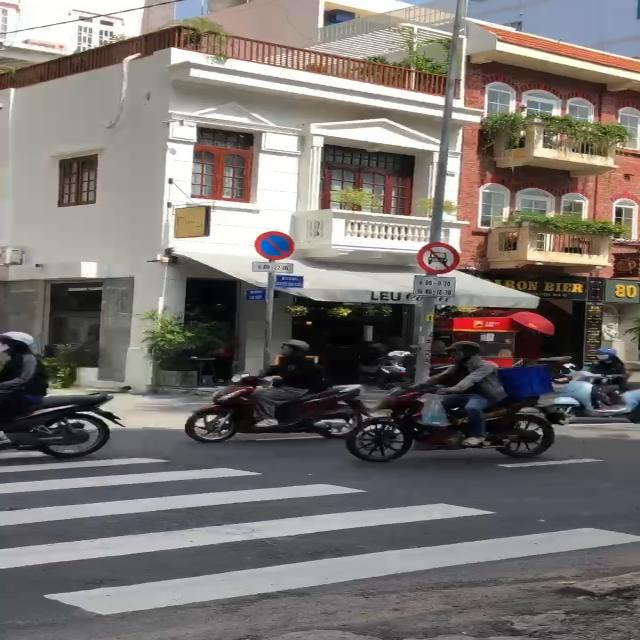Bien bao cam do xe: (249, 228, 305, 262)
Bien bao cam xe oto: (414, 241, 462, 276)
